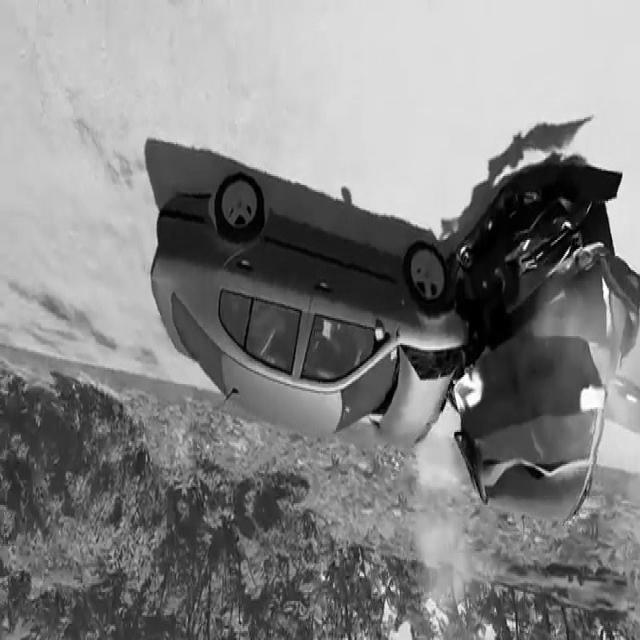moderate: (141, 151, 640, 538)
